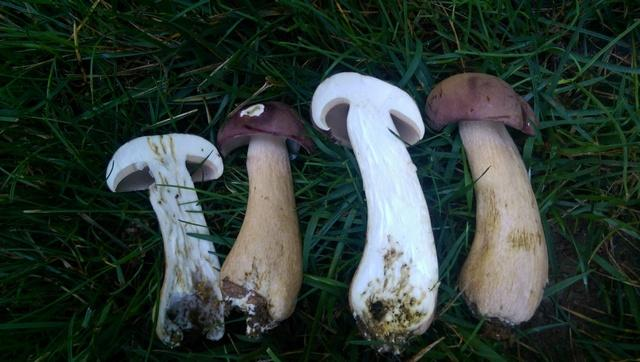Non-edible Mushroom: (309, 70, 440, 355), (424, 70, 550, 330), (104, 131, 226, 347), (216, 99, 314, 338)
